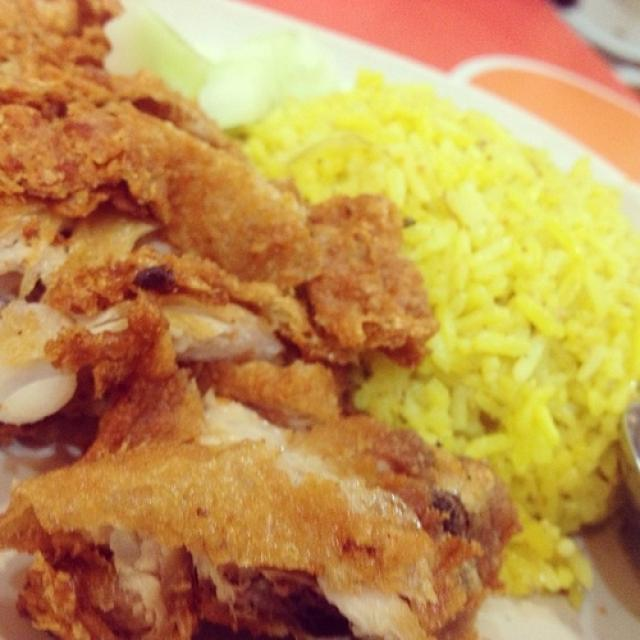米饭主食: (5, 10, 621, 626)
